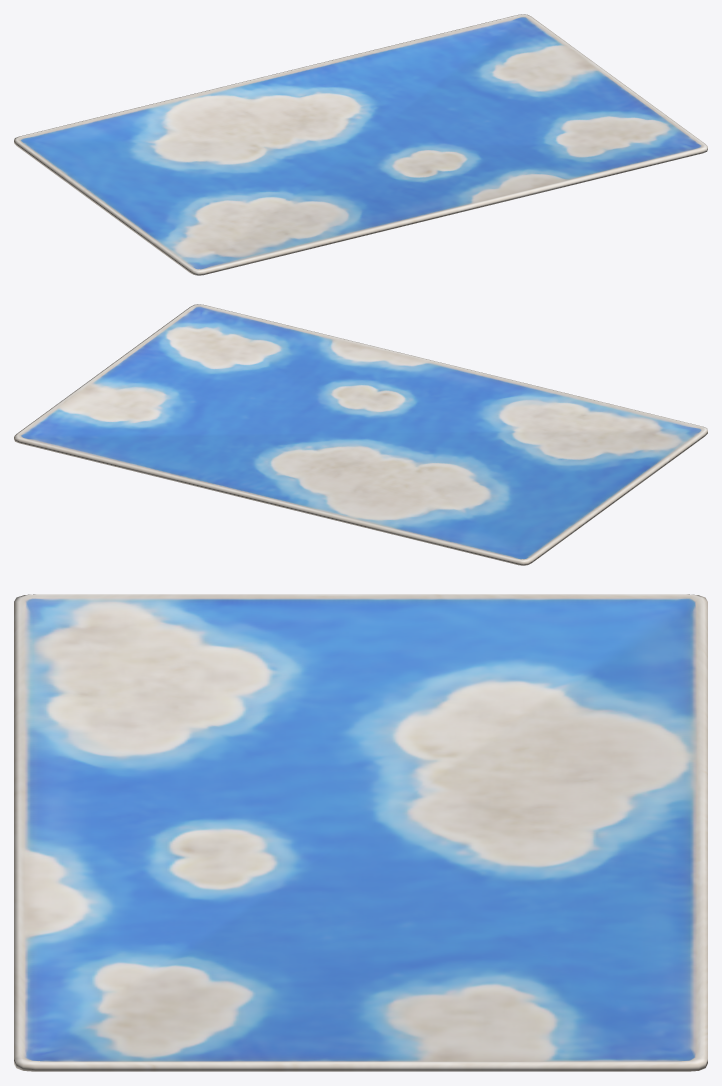
Rendered from BlueCarpet_HD.fbx.
3 renders of one model, top to bottom at view 1: azimuth 30°, elevation 25°; view 2: azimuth 150°, elevation 25°; view 3: azimuth 270°, elevation 25°, orthographic. The views are drawn at different scales.
Parts seen in each view (by area): view 1: BlueCarpet; view 2: BlueCarpet; view 3: BlueCarpet.
Boxes of the visible parts, x1,y1,x2,y2 form: BlueCarpet: (14,14,707,275); BlueCarpet: (14,304,707,565); BlueCarpet: (14,594,707,1071).
Bounding box in the file's own units: 2.74 × 0.0202 × 1.7.
